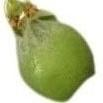fruit: (3, 0, 95, 102)
